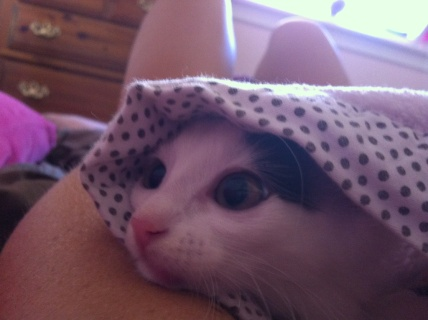Cat: (124, 111, 427, 319)
